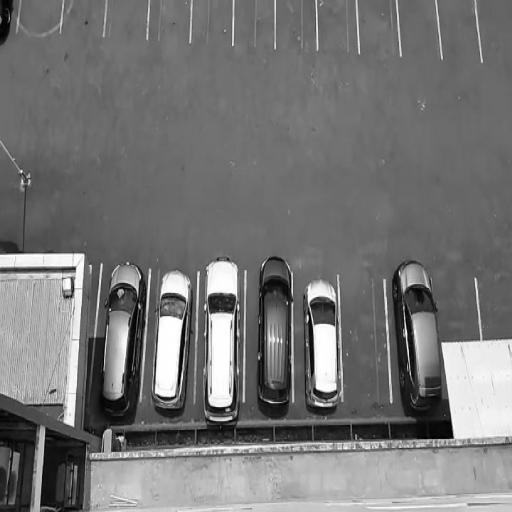Car: (388, 260, 444, 416), (100, 261, 148, 423), (202, 253, 244, 432), (254, 248, 296, 413), (301, 275, 348, 415), (152, 269, 197, 412)
Space Available: (342, 274, 386, 400), (438, 270, 476, 344), (359, 1, 398, 57), (400, 2, 439, 54), (480, 272, 512, 332), (440, 2, 476, 55), (478, 1, 512, 55), (235, 2, 274, 49), (277, 2, 316, 48), (319, 2, 356, 49), (194, 2, 232, 45), (150, 1, 188, 38), (64, 0, 102, 36), (107, 2, 145, 36), (21, 2, 59, 30)
